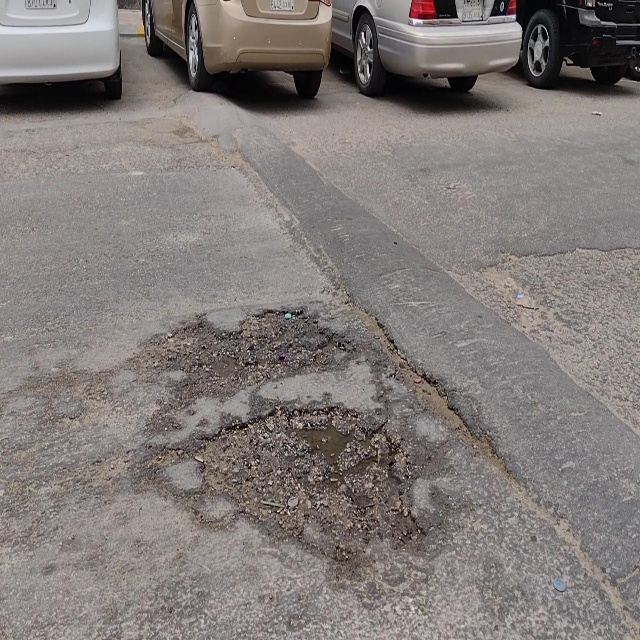pothole: (187, 396, 432, 558), (136, 302, 360, 431)
